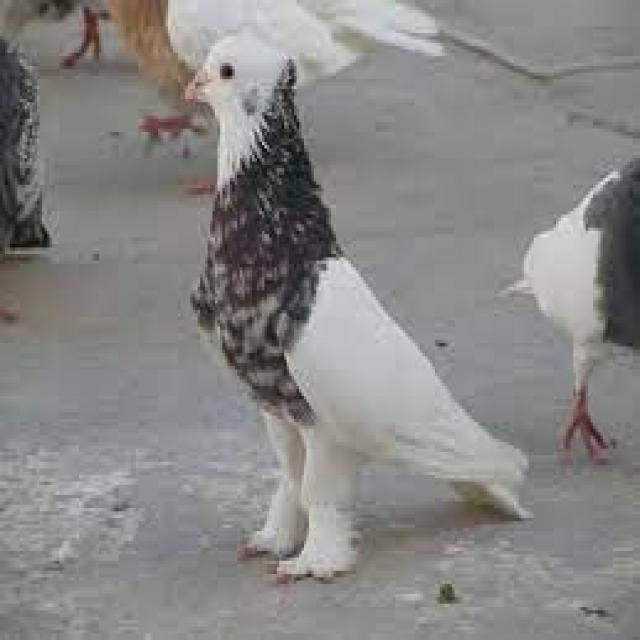bird: (180, 29, 537, 585)
